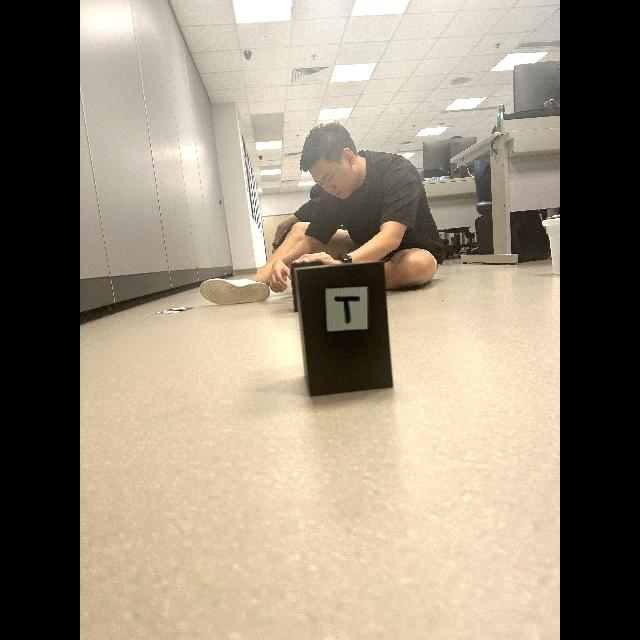T: (335, 297, 361, 323)
